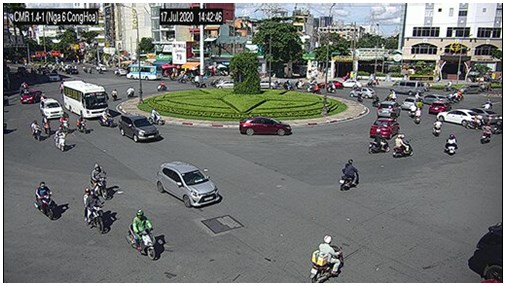xe_buyt: (62, 81, 108, 118), (127, 65, 164, 81)
xe_hoi: (158, 162, 220, 206), (118, 114, 160, 145), (240, 116, 293, 137), (437, 109, 483, 128), (370, 118, 401, 139), (39, 98, 64, 120), (378, 101, 401, 116), (348, 87, 376, 99), (21, 89, 41, 104), (456, 84, 482, 95), (422, 94, 449, 104), (402, 96, 421, 110), (259, 81, 277, 89), (215, 81, 235, 88), (48, 71, 59, 82)
xe_khach: (389, 80, 423, 95)
xe_may: (312, 235, 344, 283), (128, 210, 155, 260), (82, 188, 105, 233), (34, 181, 54, 220), (340, 159, 360, 192), (90, 163, 107, 200), (391, 134, 414, 159), (369, 129, 390, 154), (98, 108, 114, 128), (54, 127, 66, 153), (445, 134, 458, 156), (479, 122, 492, 144), (148, 108, 163, 127), (30, 119, 42, 142), (77, 114, 87, 135), (43, 116, 52, 138), (60, 114, 69, 135), (433, 116, 441, 136), (307, 82, 320, 94), (194, 77, 207, 89), (413, 107, 421, 125), (126, 85, 136, 98), (327, 80, 336, 94), (282, 79, 294, 89), (483, 98, 492, 111), (157, 81, 167, 91), (111, 88, 118, 101)
